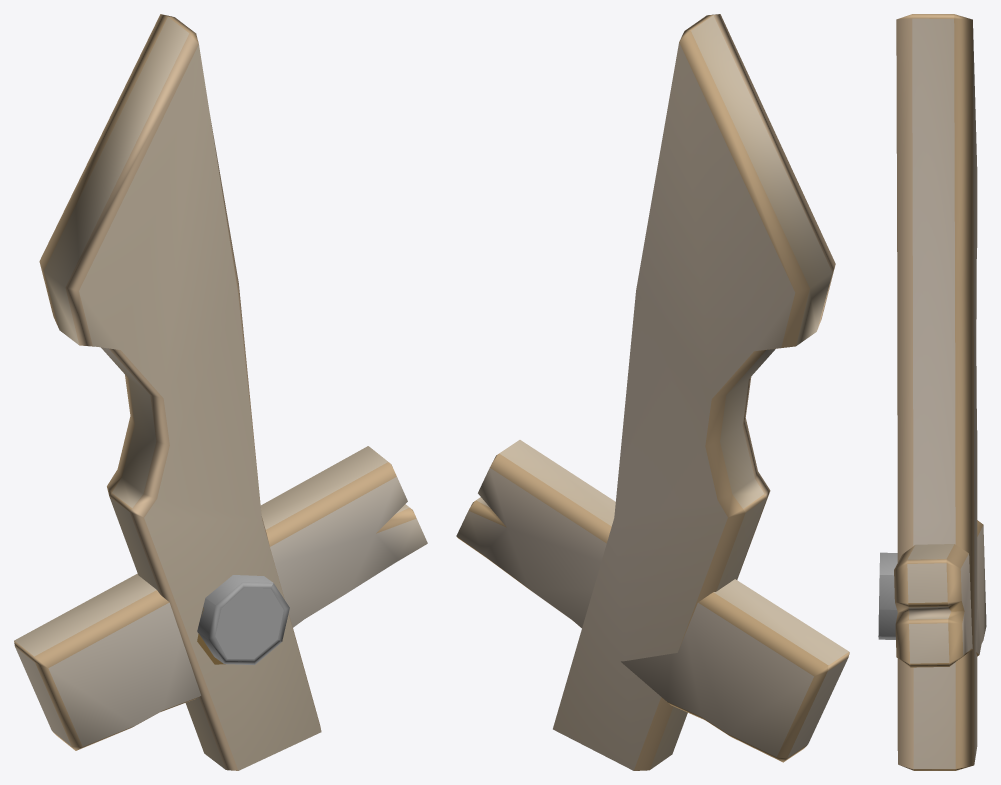
Rendered from sword_0.glb.
The picture shows the model from 3 angles, left to right: view 1: azimuth 30°, elevation 25°; view 2: azimuth 150°, elevation 25°; view 3: azimuth 270°, elevation 25°; orthographic projection. The views are drawn at different scales.
Parts seen in each view (by area): view 1: sword; view 2: sword; view 3: sword.
Part boxes in pixels (bbox=[...]): sword: bbox=[14, 14, 427, 770]; sword: bbox=[456, 14, 849, 770]; sword: bbox=[878, 14, 986, 770].
Bounding box in the file's own units: 0.4913 × 0.9218 × 0.1258.
